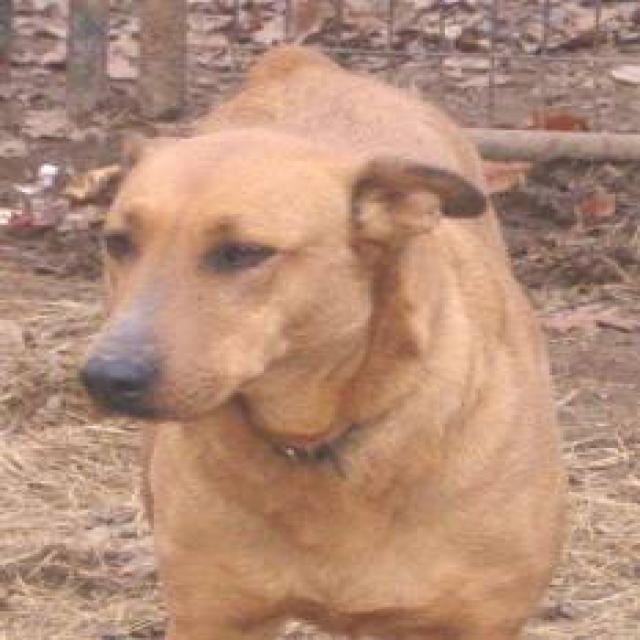dog: (71, 42, 572, 638)
